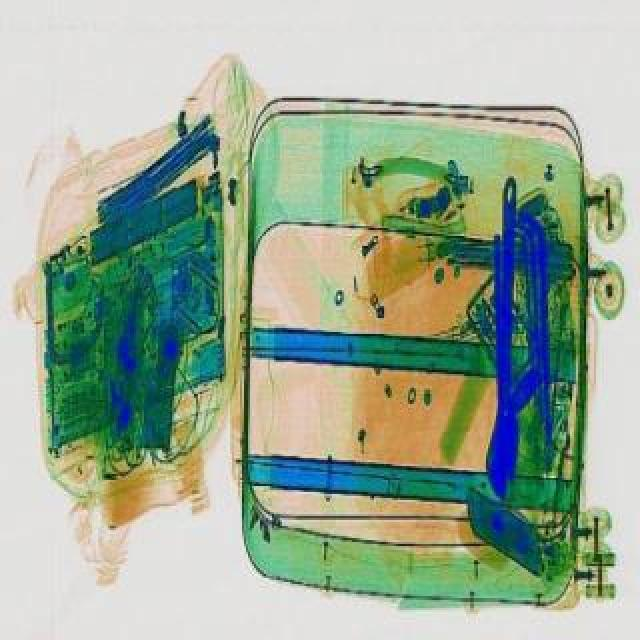scissors: (484, 174, 524, 500)
